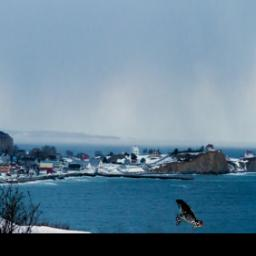Woodpecker: (176, 200, 203, 230)
